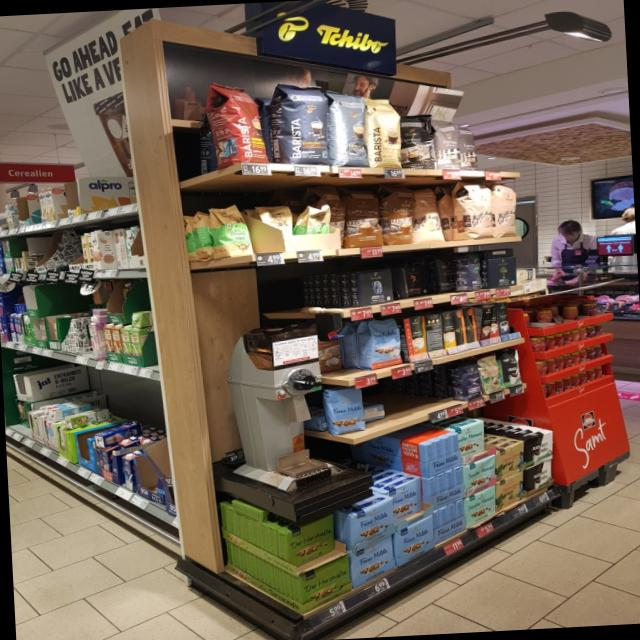AB Gemahlen: (358, 267, 397, 307)
Athiopien Bohne: (209, 201, 258, 260)
BM Bohne: (464, 253, 486, 292)
BM Gemahlen: (488, 256, 519, 289)
BW Bohne: (497, 347, 526, 390)
BW Gemahlen: (525, 457, 556, 498), (524, 429, 554, 468)
Barista CB: (367, 95, 404, 169)
Barista CC: (329, 90, 373, 168)
Barista Espresso: (277, 81, 333, 165)
Barista Kolumbien: (208, 82, 276, 164)
C Fino Bohne: (455, 362, 486, 402)
CC Mild: (461, 181, 498, 239), (492, 181, 523, 237)
CC Vollmundig 36 Pads: (343, 187, 387, 250), (386, 188, 416, 244)
Colombia BB Bohne: (478, 353, 505, 397)
Colombia BB Gemahlen: (497, 470, 526, 512), (496, 440, 525, 482)
Espresso Aromatisch: (433, 118, 462, 170), (458, 123, 485, 170)
Espresso Kraftig: (398, 112, 438, 169)
FM 36 Pads: (367, 317, 404, 371)
FM Bohne: (326, 388, 371, 437)
FM Gemahlen: (352, 496, 397, 554), (352, 534, 398, 589), (393, 515, 438, 567)
Herzhatfe Mundig: (298, 555, 354, 616), (285, 512, 339, 570)
LG Bohne: (399, 261, 432, 300)
SM Gemahlen: (464, 455, 498, 497), (466, 484, 498, 528)
Simo CCMild bigpack: (443, 310, 458, 355)
Simo CCVollmundig: (404, 314, 427, 362)
Simo Es Caramel: (480, 305, 494, 345)
Simo Es Kraft: (498, 302, 511, 342)
